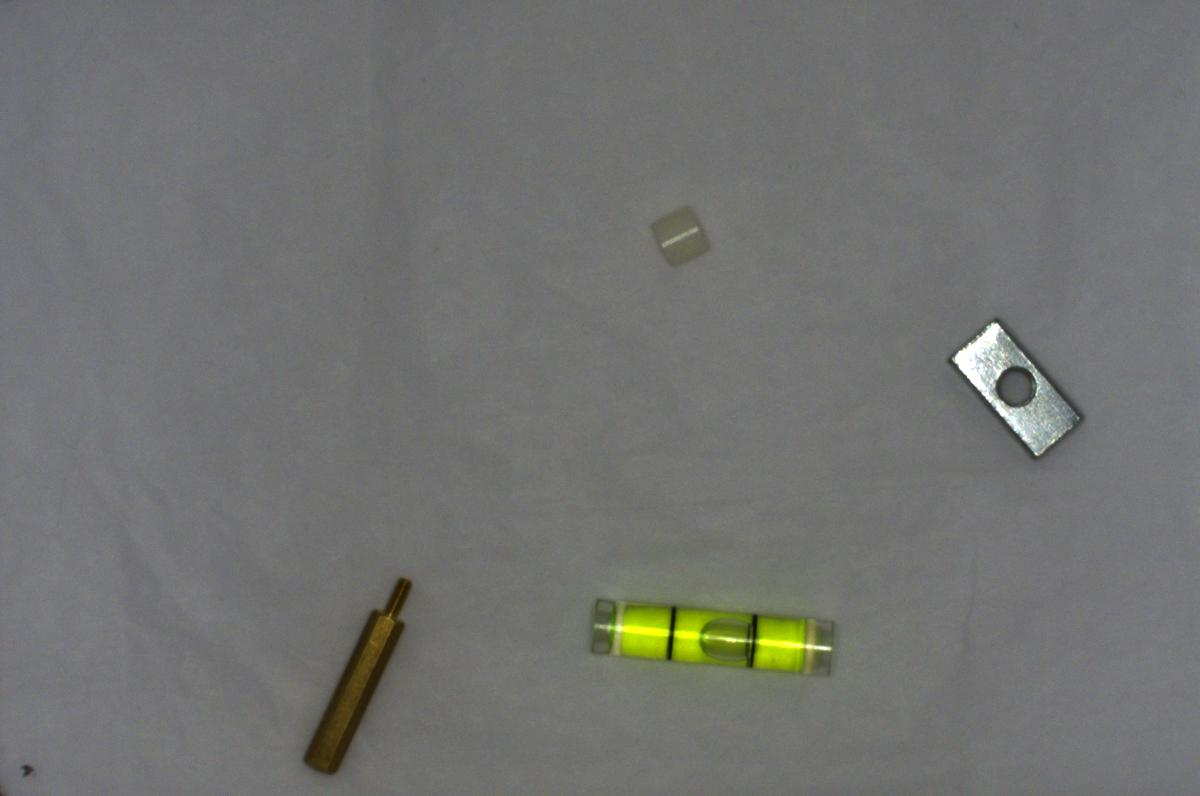Hexagon pillar: (295, 570, 419, 773)
Horizontal bubble: (575, 589, 845, 680)
Plastic cushion pillar: (648, 201, 707, 267)
Rectangular nut: (944, 316, 1090, 461)
